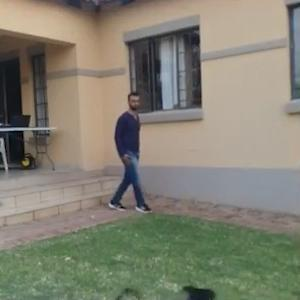follow: (120, 93, 150, 197)
